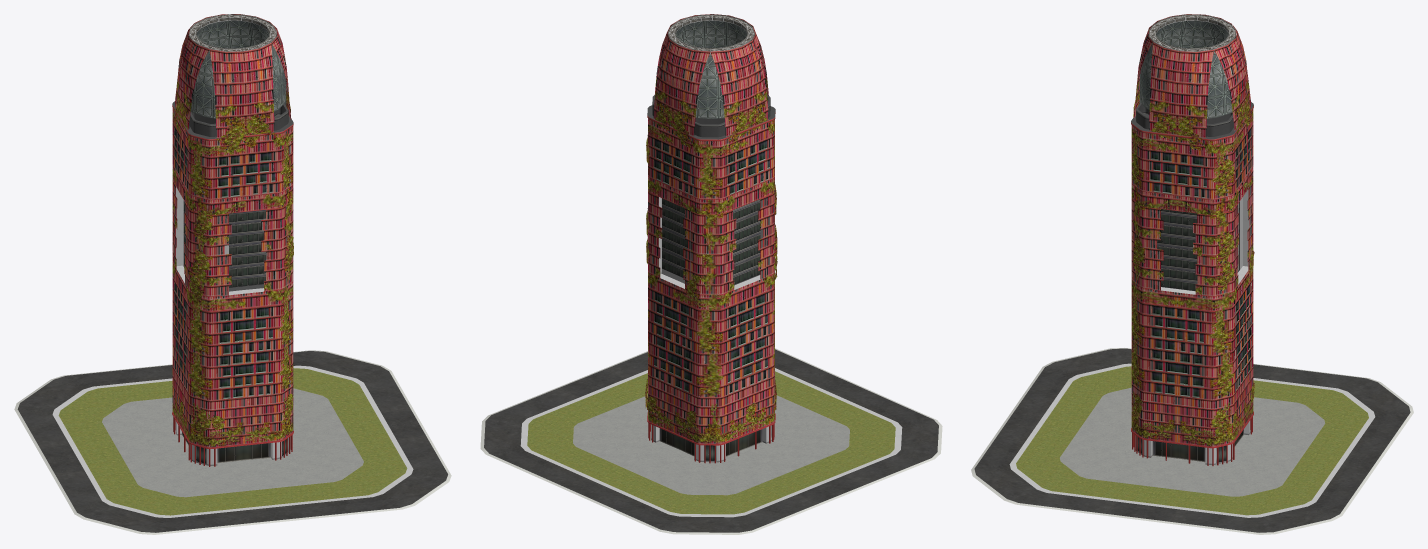
The model's file is Singapore_track_landmark_06.dae.
3 views of the same model, side by side, from view 1: azimuth 30°, elevation 25°; view 2: azimuth 150°, elevation 25°; view 3: azimuth 270°, elevation 25° (orthographic).
Visible parts, largest first — view 1: Singapore_track_landmark_06; view 2: Singapore_track_landmark_06; view 3: Singapore_track_landmark_06.
Boxes of the visible parts, x1,y1,x2,y2 form: Singapore_track_landmark_06: [14, 14, 451, 534]; Singapore_track_landmark_06: [480, 14, 942, 534]; Singapore_track_landmark_06: [971, 14, 1413, 534].
Size of the model in its own units: 17.76 by 17.76 by 18.07.
Materials: 5 (5 with a texture image).
